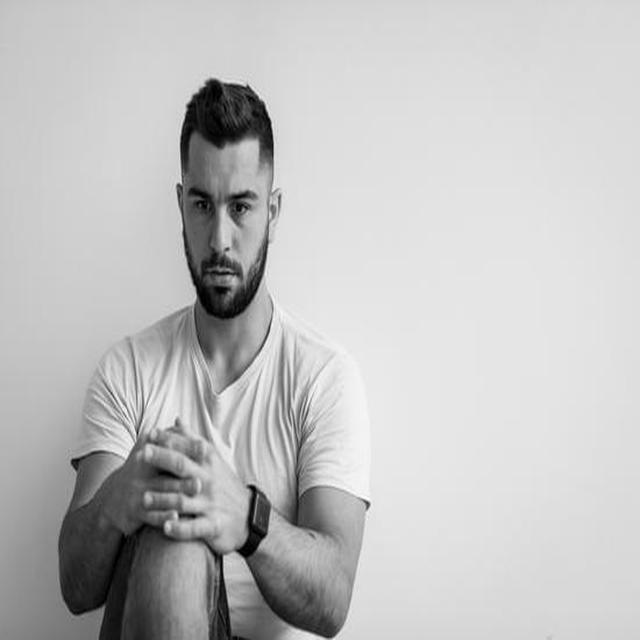Sadness: (183, 124, 262, 319)
